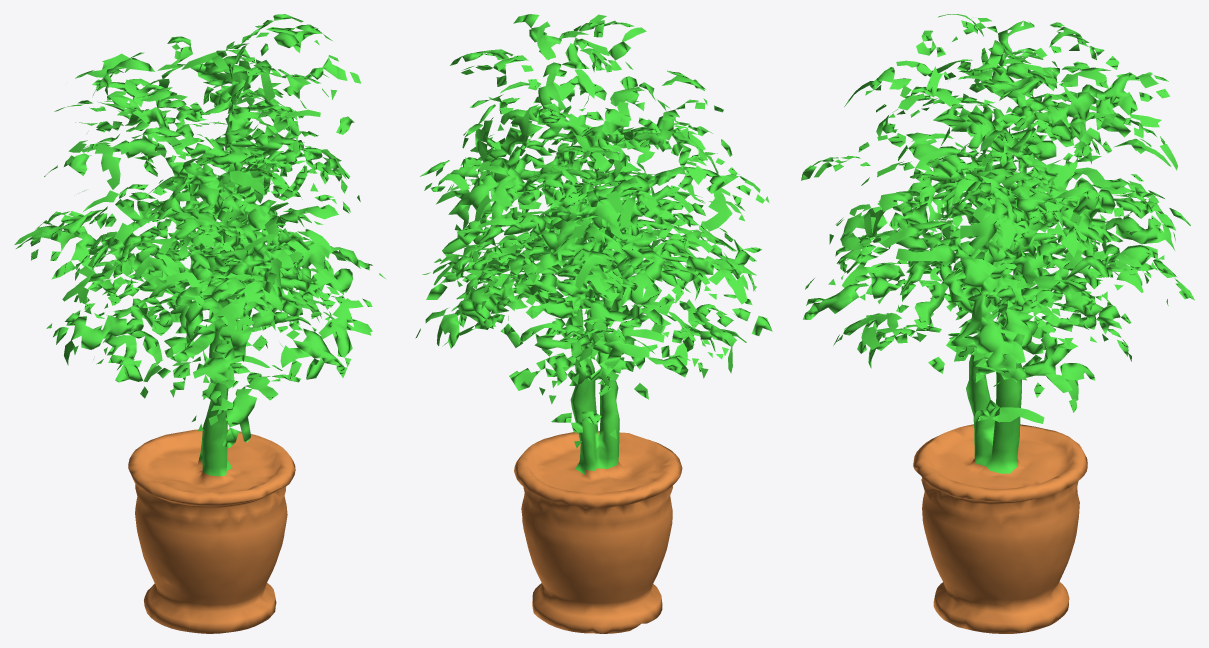
The model's file is plante_4.glb.
3 renders of one model, left to right at view 1: azimuth 30°, elevation 25°; view 2: azimuth 150°, elevation 25°; view 3: azimuth 270°, elevation 25°, orthographic. The views are drawn at different scales.
Visible parts, largest first — view 1: Mesh1; view 2: Mesh1; view 3: Mesh1.
Part boxes in pixels (bbox=[...]): Mesh1: bbox=[14, 14, 385, 633]; Mesh1: bbox=[415, 14, 772, 633]; Mesh1: bbox=[801, 14, 1194, 633].
Bounding box in the file's own units: 1.18 × 1.98 × 1.19.
